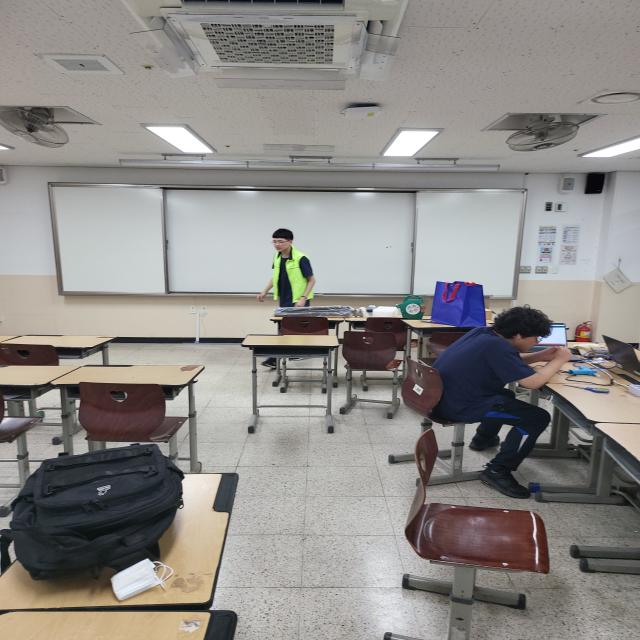weston_spy: (263, 257, 316, 312)
